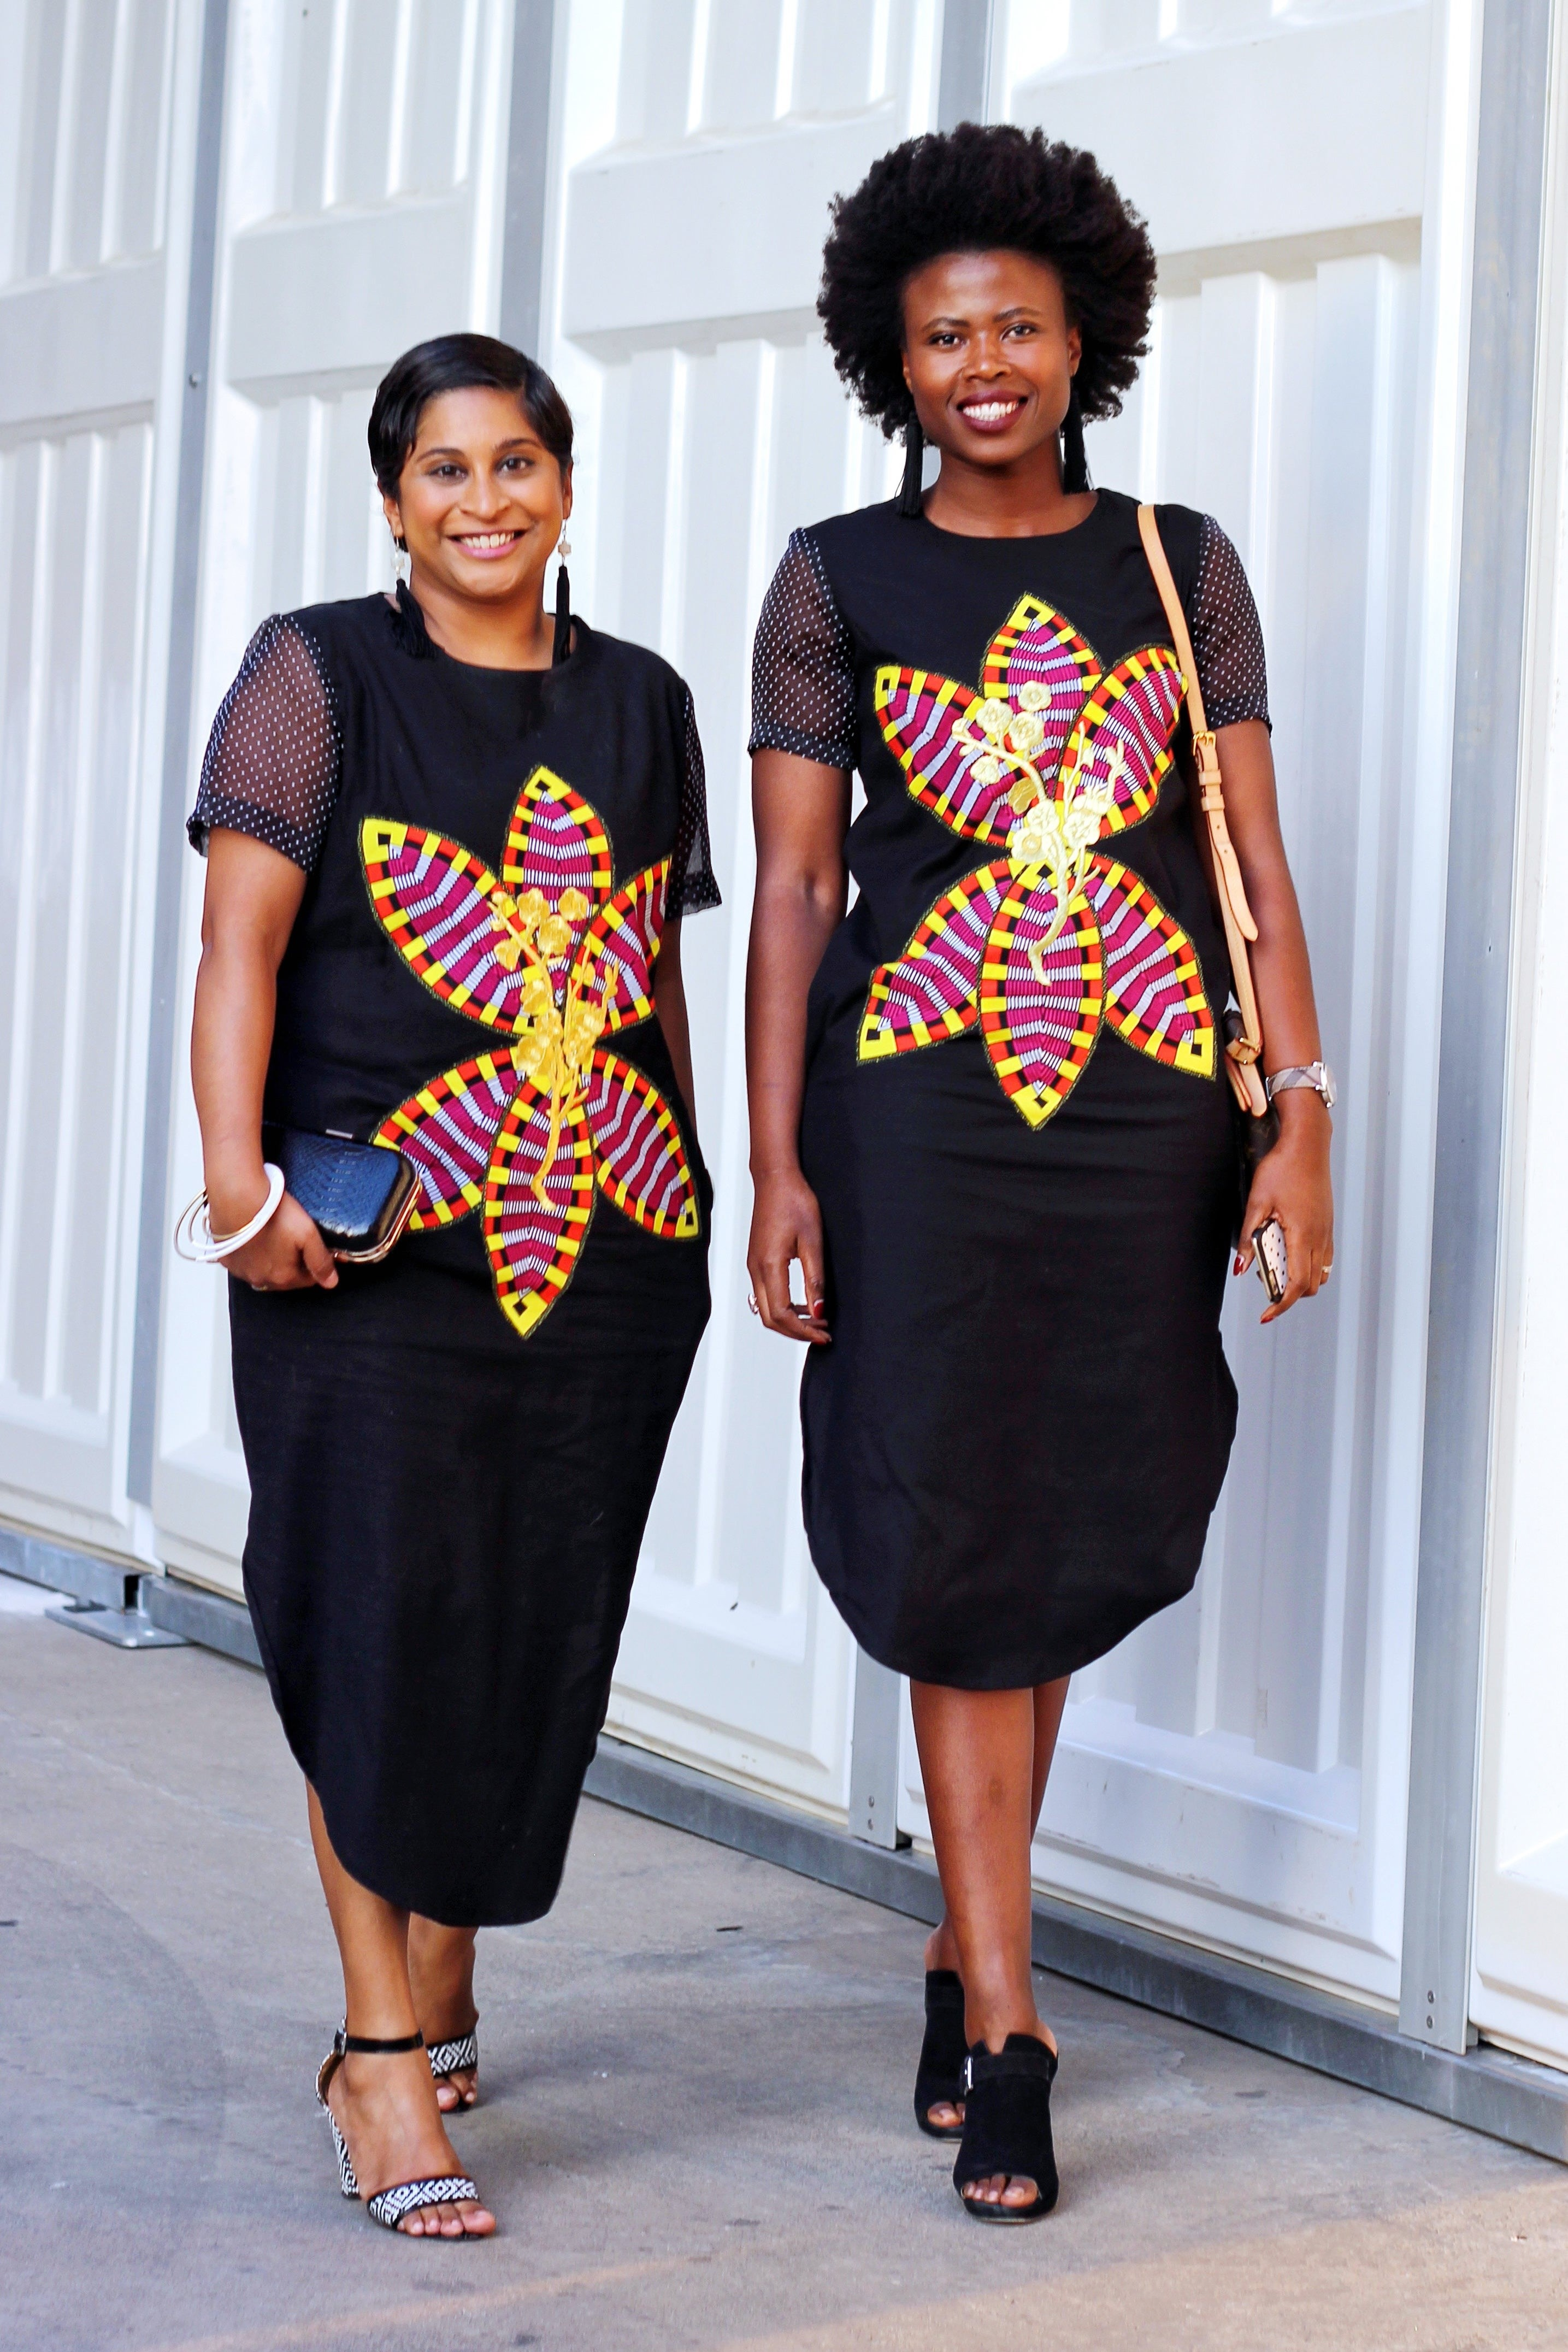face_no_mask: (812, 111, 1168, 466), (371, 331, 575, 595)
